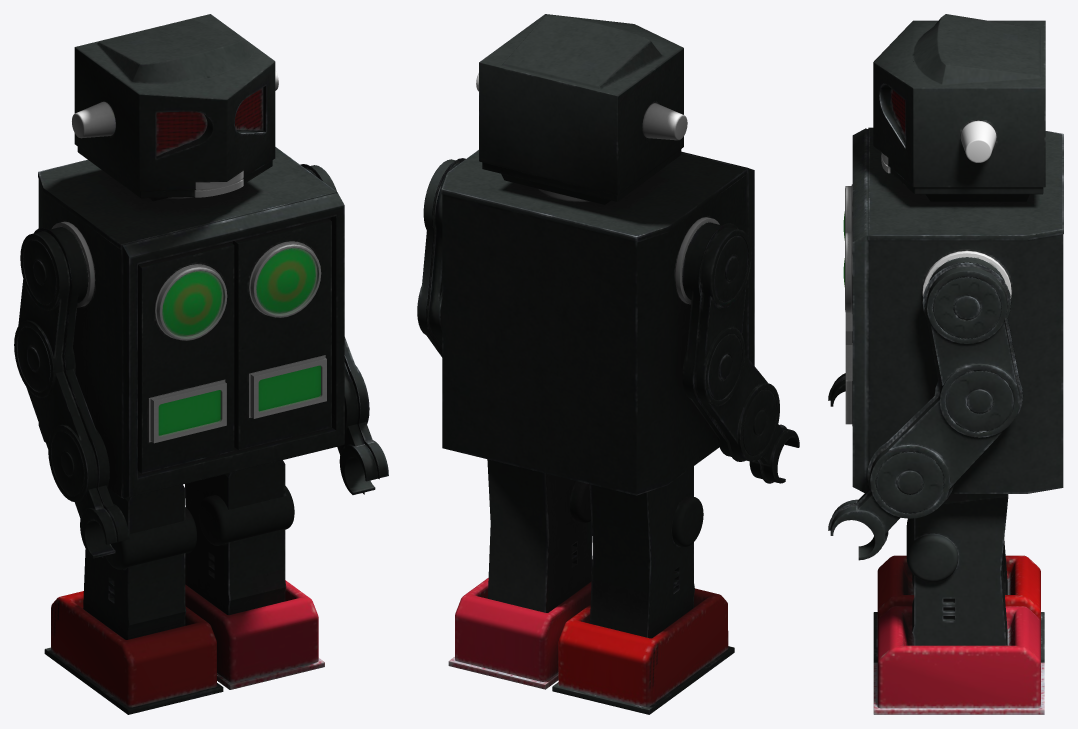
The picture shows the model from 3 angles, left to right: view 1: azimuth 30°, elevation 25°; view 2: azimuth 150°, elevation 25°; view 3: azimuth 270°, elevation 25°; orthographic projection. The views are drawn at different scales.
Parts seen in each view (by area): view 1: Mouth.001; view 2: Mouth.001; view 3: Mouth.001.
Part boxes in pixels (left/top/right/bottom): Mouth.001: left=14, top=14, right=388, bottom=714; Mouth.001: left=417, top=14, right=799, bottom=714; Mouth.001: left=828, top=14, right=1063, bottom=714.
Bounding box in the file's own units: 3.85 × 7.97 × 2.72.
1 material, 1 textured.
